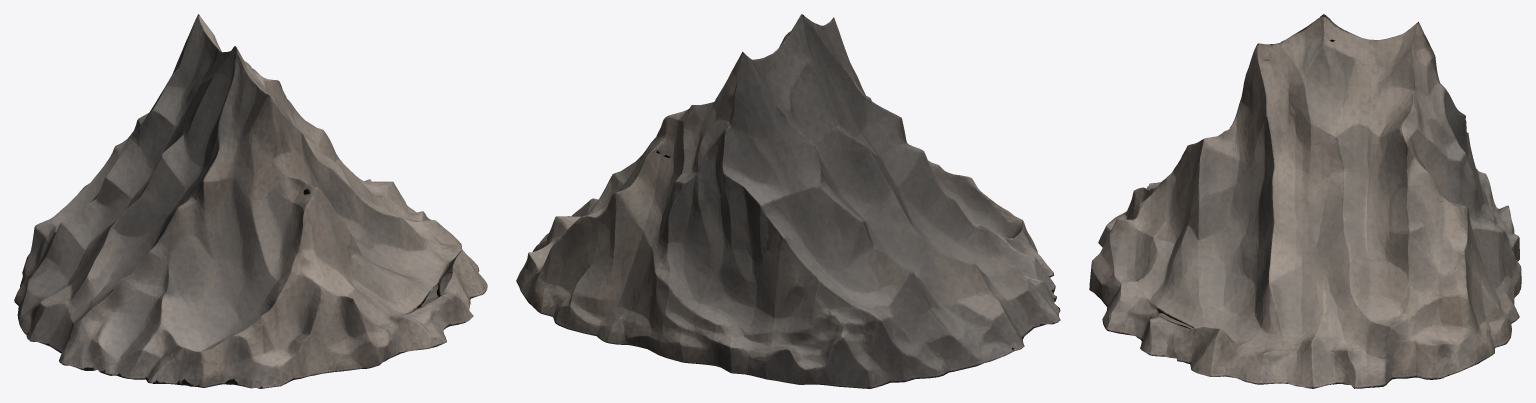
3 renders of one model, left to right at view 1: azimuth 30°, elevation 25°; view 2: azimuth 150°, elevation 25°; view 3: azimuth 270°, elevation 25°, orthographic. The views are drawn at different scales.
Visible parts, largest first — view 1: world; view 2: world; view 3: world.
Boxes of the visible parts, left/top/right/bottom form: world: left=14, top=14, right=487, bottom=388; world: left=516, top=14, right=1060, bottom=388; world: left=1089, top=14, right=1521, bottom=388.
Size of the model in its own units: 30 by 16.85 by 25.14.
2 materials, 1 textured.
